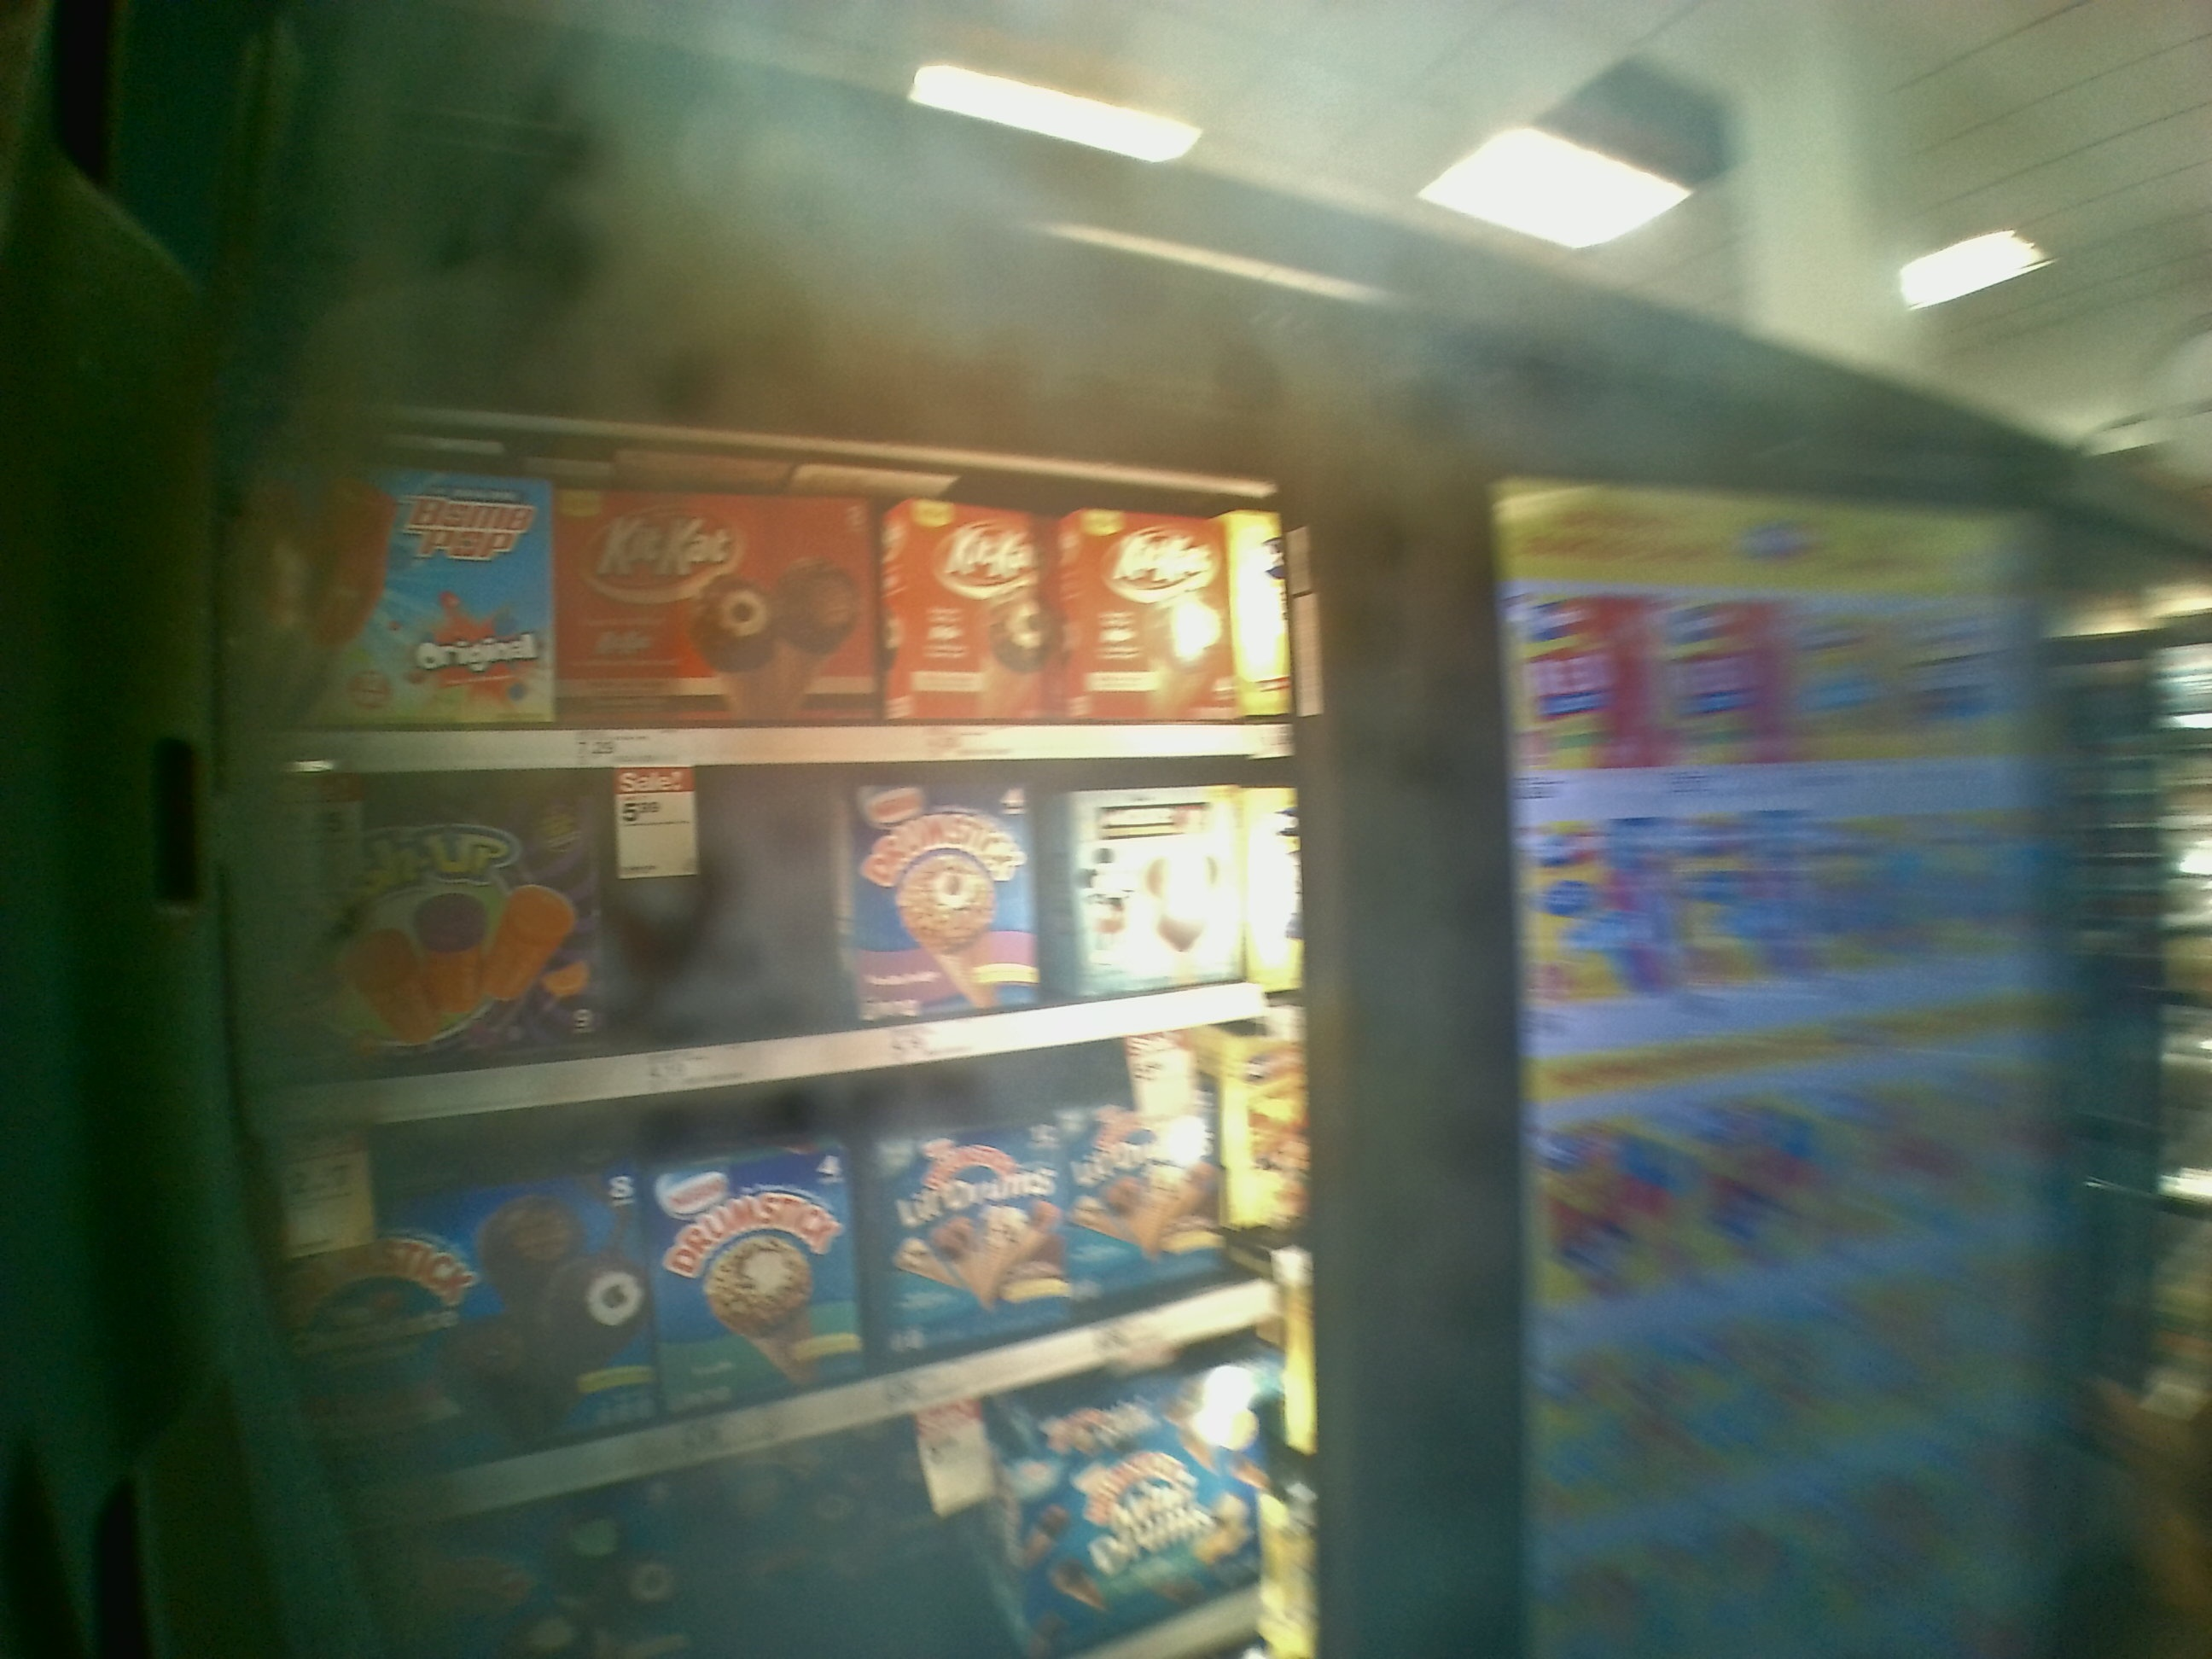shelf: (235, 762, 1294, 1108), (239, 416, 1298, 762)
